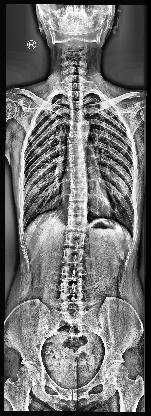Vertebrae: (62, 266, 85, 282), (62, 248, 85, 262), (64, 231, 86, 245), (60, 282, 84, 294), (69, 202, 89, 214), (67, 216, 87, 228), (70, 177, 88, 187), (70, 189, 88, 199), (69, 144, 85, 154), (70, 166, 86, 176), (70, 100, 85, 110), (70, 156, 86, 165), (70, 110, 84, 120), (68, 134, 84, 142), (70, 121, 84, 130), (68, 83, 82, 91), (69, 91, 83, 99), (67, 76, 83, 82)
